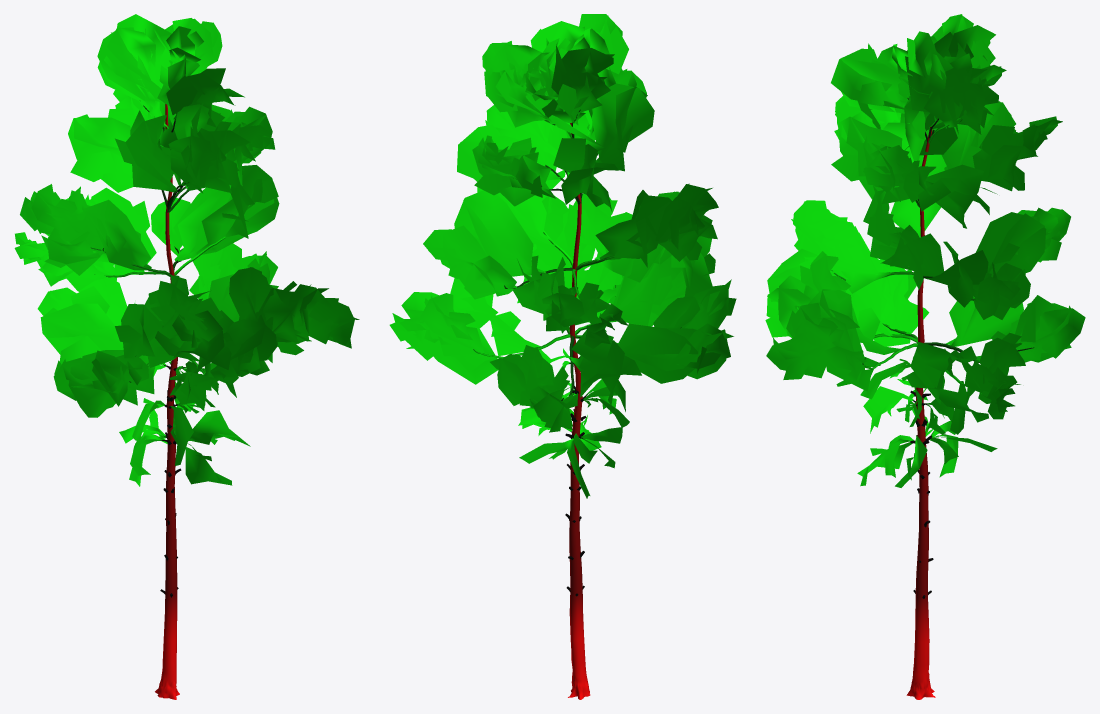
Rendered from Pine_M.FBX.
3 renders of one model, left to right at view 1: azimuth 30°, elevation 25°; view 2: azimuth 150°, elevation 25°; view 3: azimuth 270°, elevation 25°, orthographic.
Visible parts, largest first — view 1: M2_LOD0; view 2: M2_LOD0; view 3: M2_LOD0.
Part boxes in pixels (x1,y1,x2,y2): M2_LOD0: [14, 14, 359, 699]; M2_LOD0: [389, 14, 736, 699]; M2_LOD0: [765, 14, 1085, 699].
Size of what is drawn, in the model's own units: 410 by 914 by 397.
